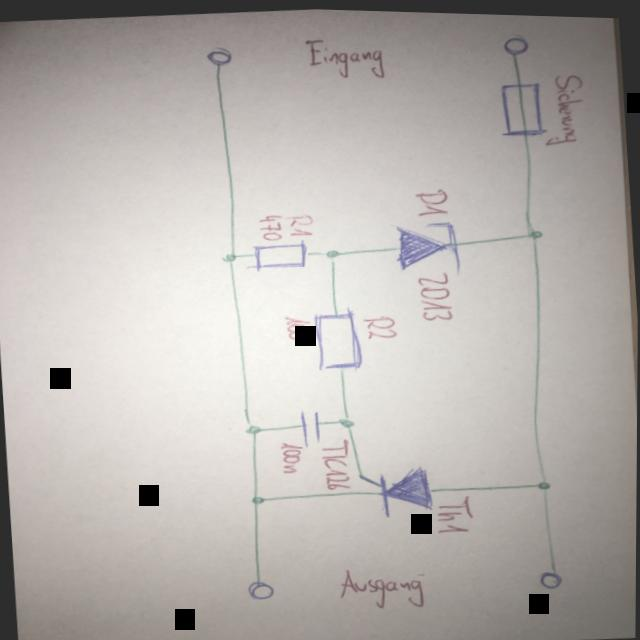capacitor: (297, 404, 325, 447)
diode: (393, 214, 463, 277)
junction: (336, 411, 357, 427), (319, 245, 341, 260), (243, 419, 263, 434), (525, 223, 544, 238), (220, 249, 239, 263), (250, 492, 267, 507), (535, 474, 553, 487)
resistor: (311, 302, 364, 372), (244, 233, 312, 272)
terminal: (204, 42, 234, 69), (501, 29, 530, 54), (246, 576, 276, 600), (538, 564, 565, 587)
text: (337, 559, 428, 612), (301, 30, 386, 81), (538, 67, 589, 145), (415, 267, 455, 320), (318, 433, 355, 490), (434, 489, 476, 533), (412, 183, 452, 217), (361, 309, 401, 339), (278, 436, 307, 473), (257, 209, 287, 241), (282, 209, 316, 237), (282, 311, 314, 340)
thyristor: (357, 460, 436, 519)
